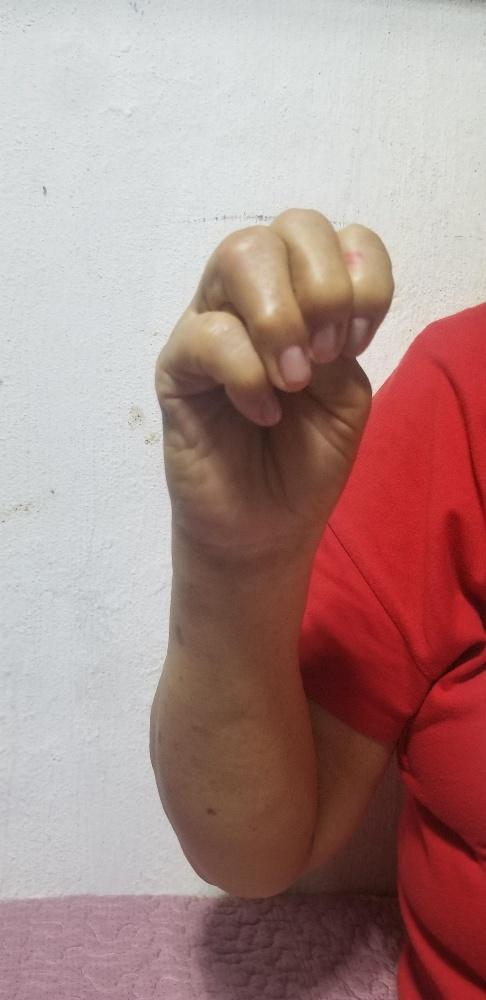m: (151, 206, 394, 546)
